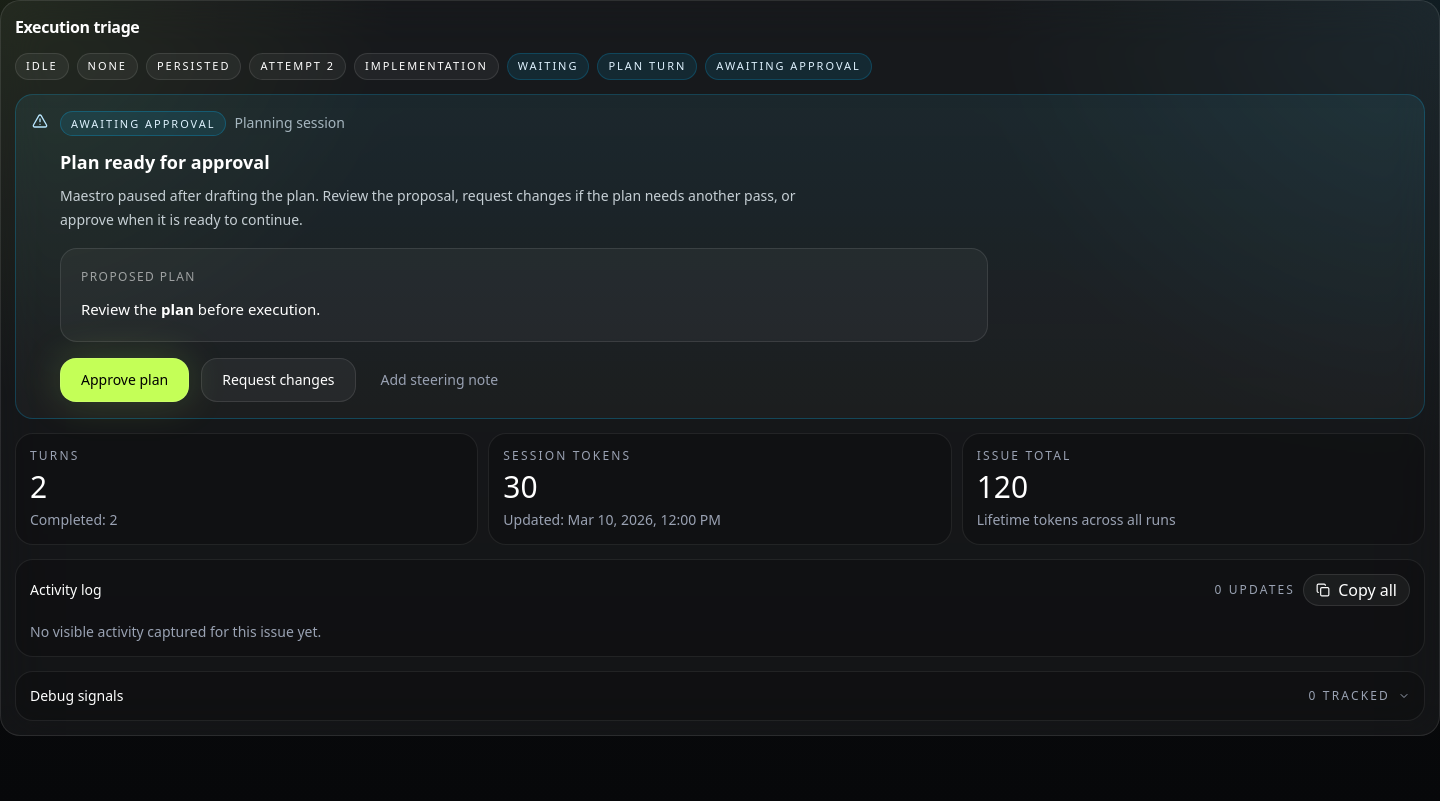
it: SessionExecutionCard › can collapse and restore a drafted plan note without clearing it
Step 1. Click the button "Add steering note" → x=439, y=380, box [368,358,511,402]
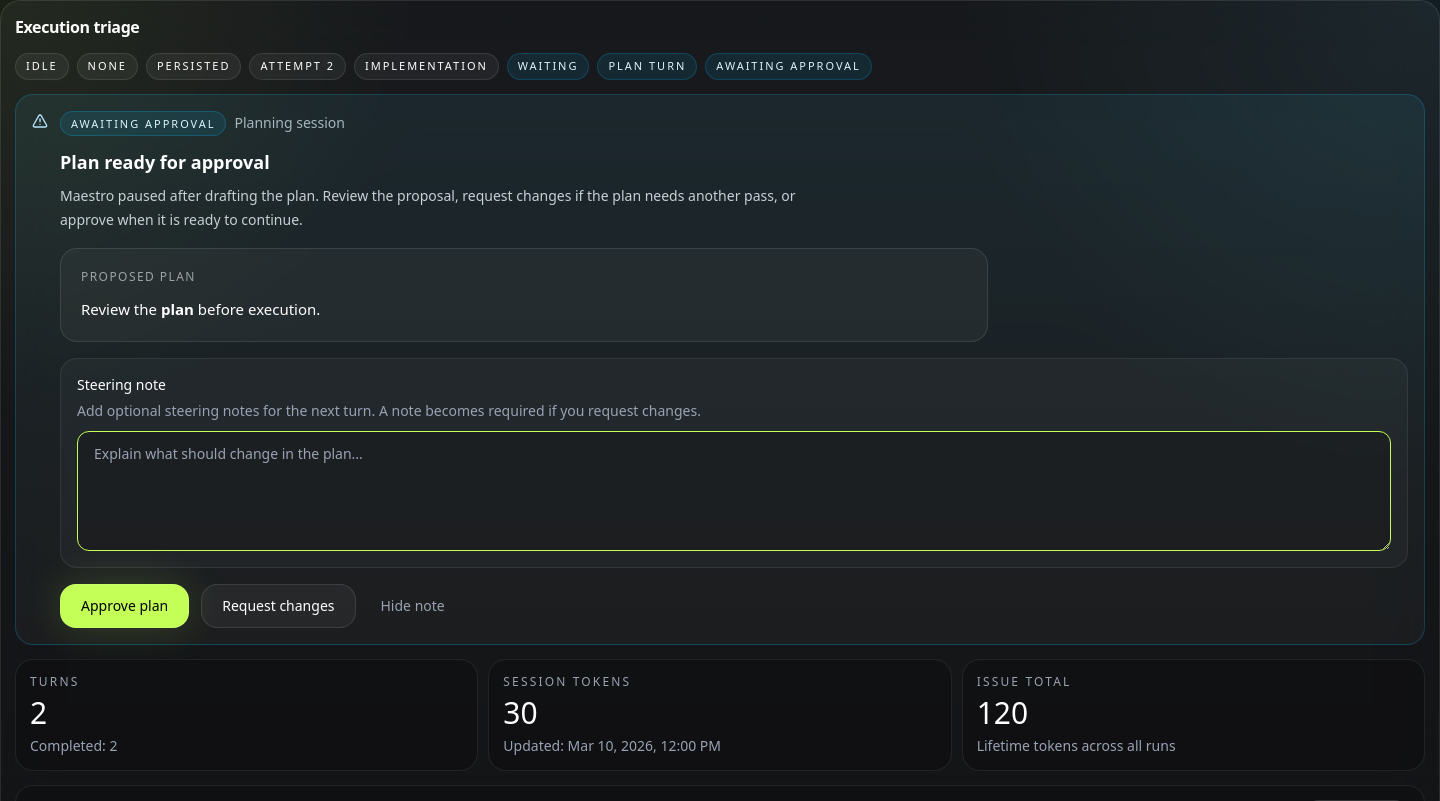
Step 2. Type "Keep the rollout small." into the text box with placeholder "Explain what should change in the plan..." → x=734, y=491, box [77,431,1391,551]
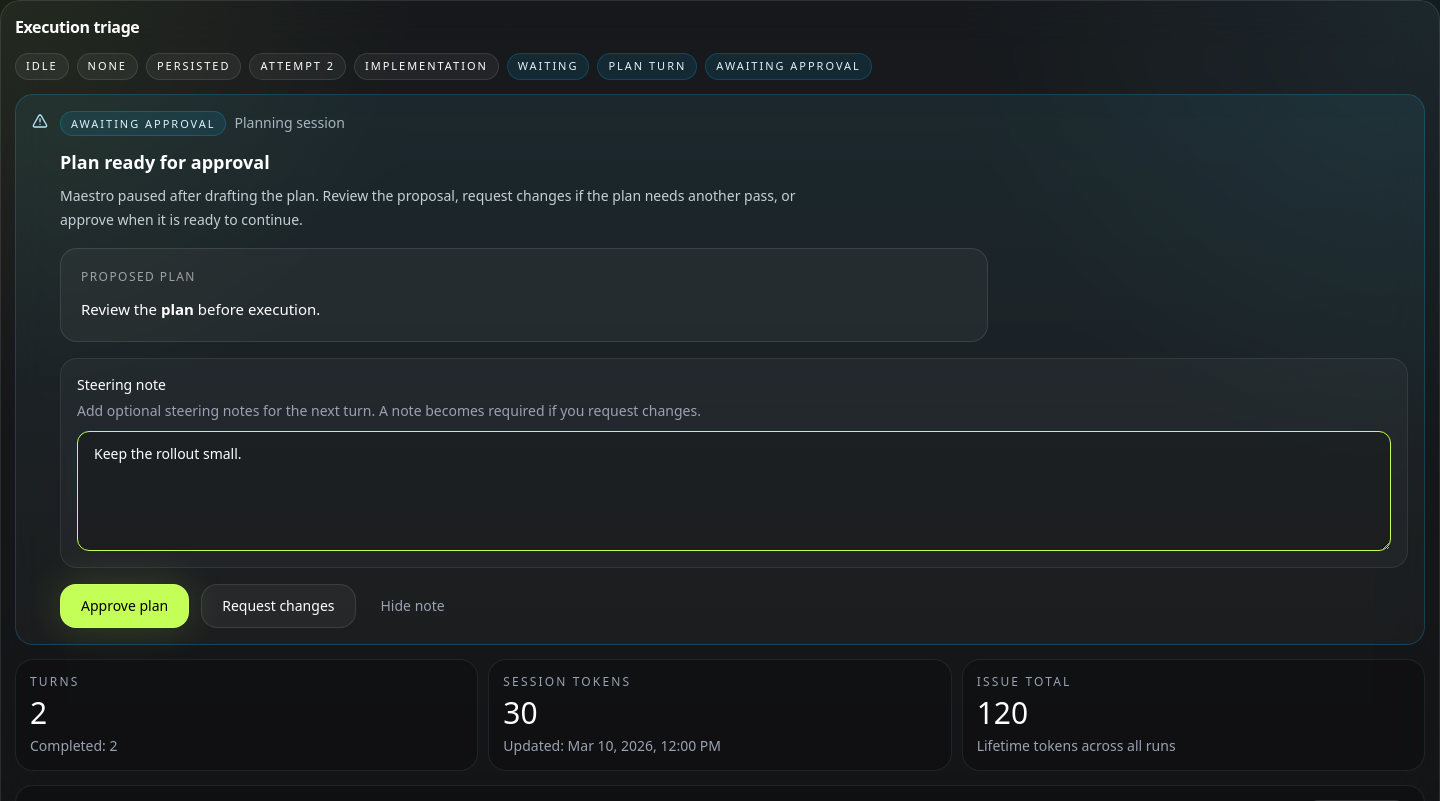
Step 3. Click the button "Hide note" → x=413, y=606, box [368,584,458,628]
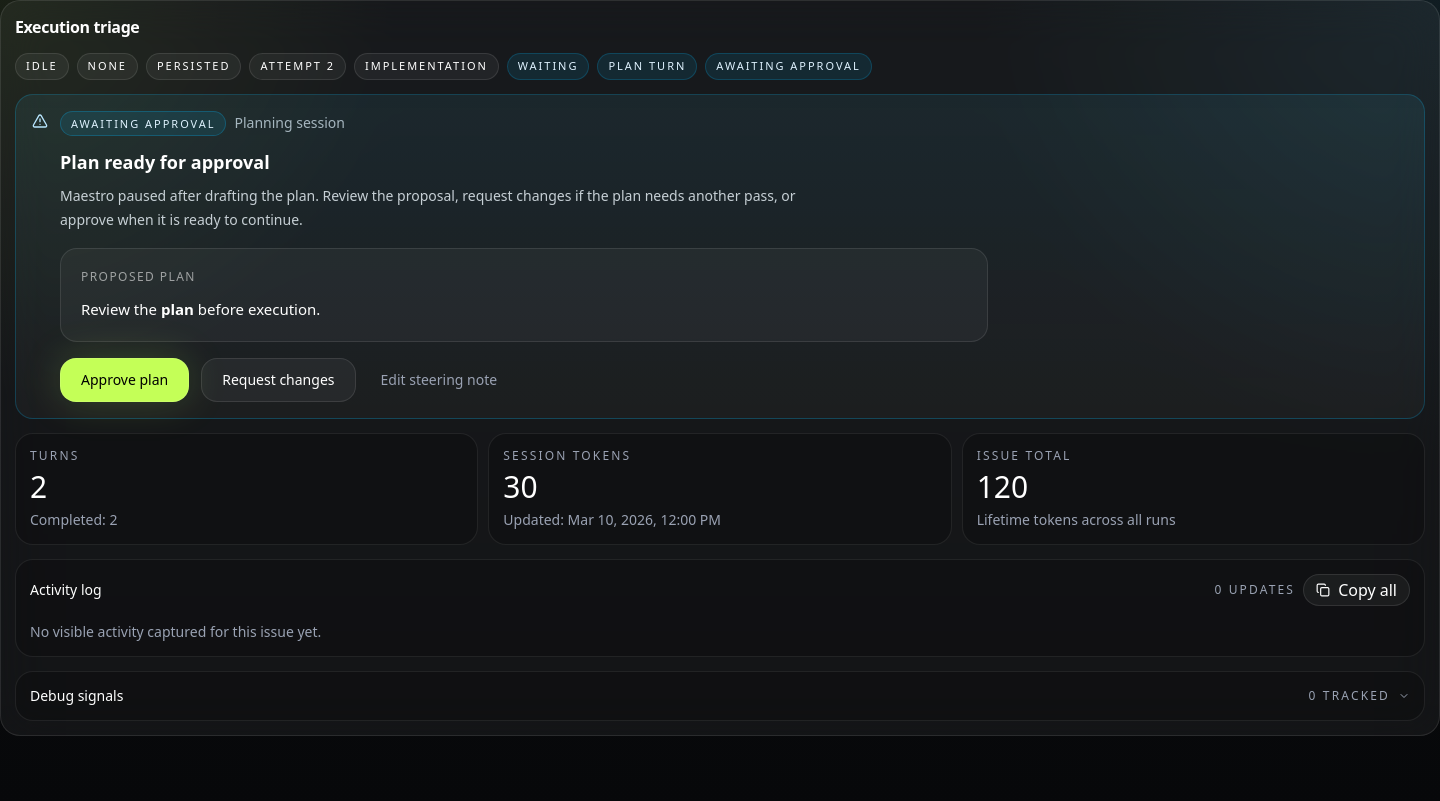
Expected: the field with placeholder "explain what should change in the plan" is not shown
Step 4. Click the button "Edit steering note" → x=439, y=380, box [368,358,510,402]
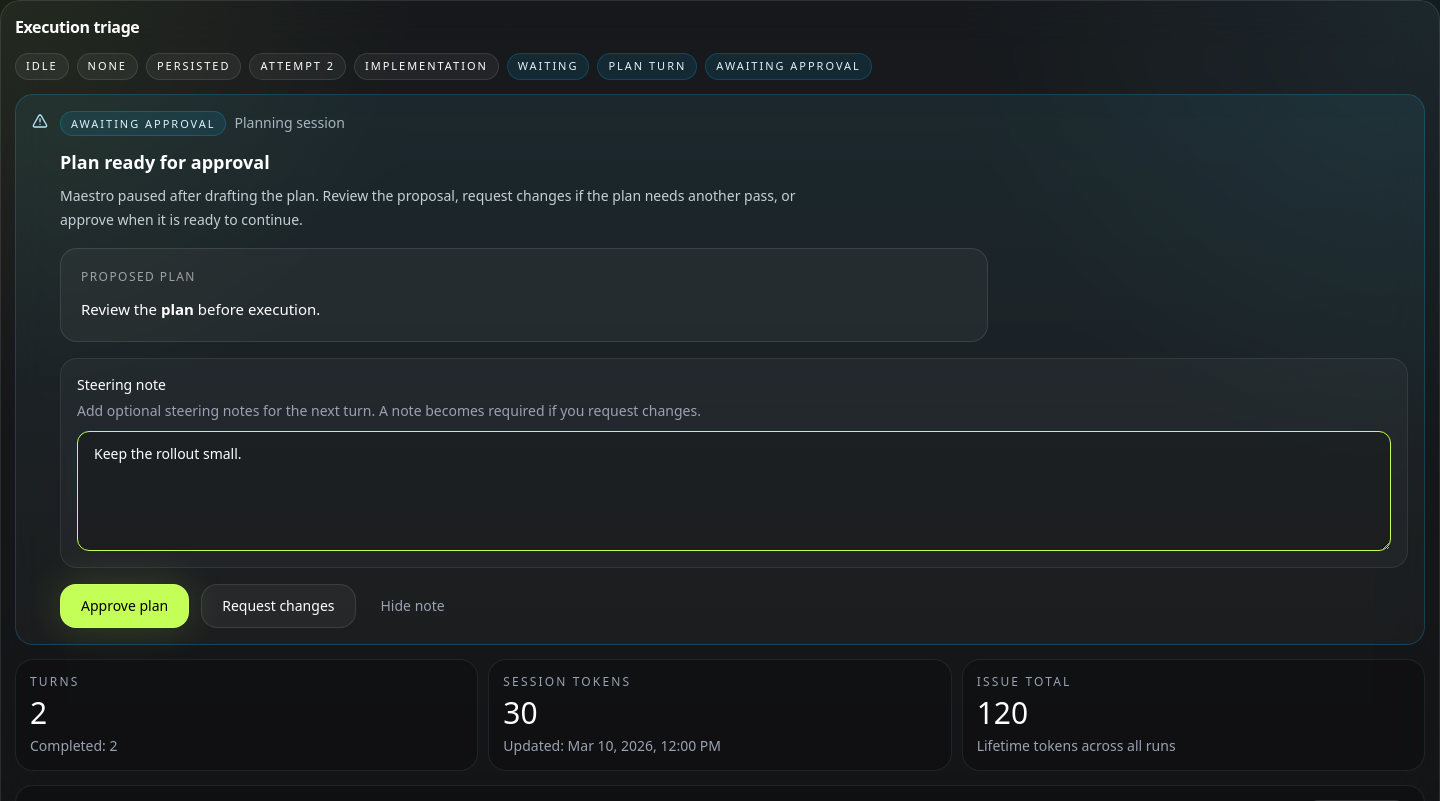
Expected: the text box with placeholder "Explain what should change in the plan..." holds "Keep the rollout small.", [77,431,1391,551]
